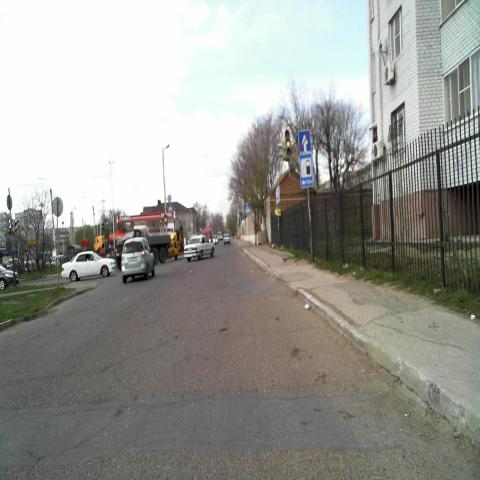5_6: (298, 128, 312, 152)
7_3: (298, 153, 314, 189)
